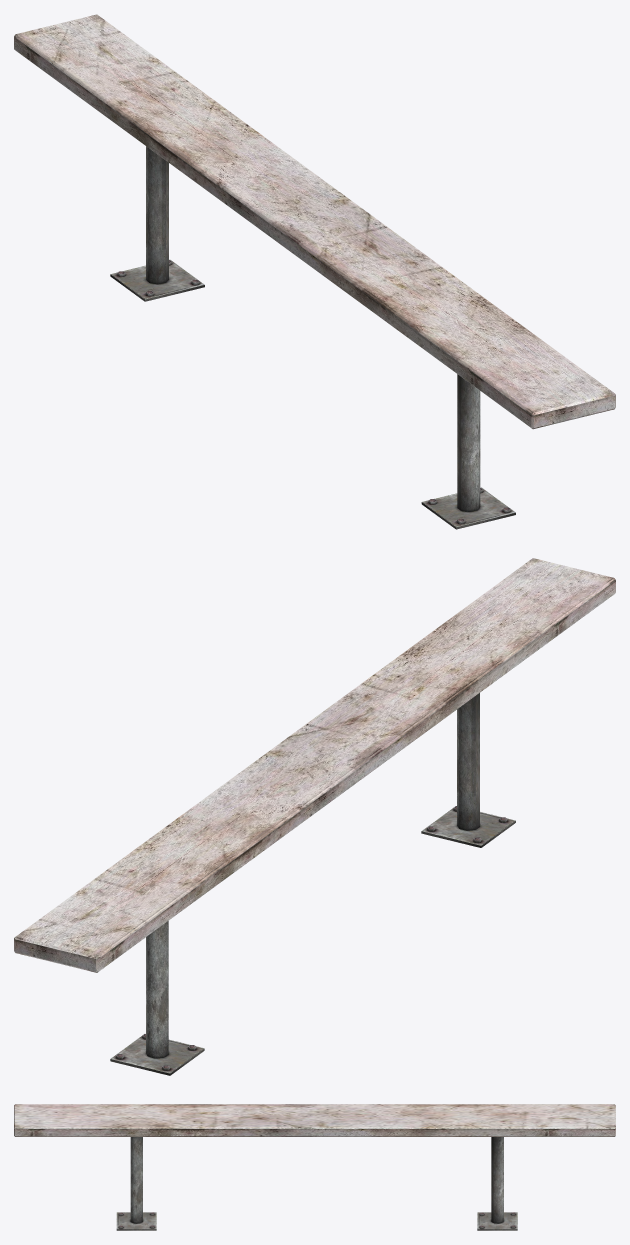
File: lockerbench.glb
3 views of the same model, one above another, from view 1: azimuth 30°, elevation 25°; view 2: azimuth 150°, elevation 25°; view 3: azimuth 270°, elevation 25° (orthographic). The views are drawn at different scales.
Parts seen in each view (by area): view 1: 0_LockerBench; view 2: 0_LockerBench; view 3: 0_LockerBench.
Part boxes in pixels (<box>): 0_LockerBench: <box>14,14,615,529</box>; 0_LockerBench: <box>14,558,615,1075</box>; 0_LockerBench: <box>14,1104,615,1230</box>.
Bounding box in the file's own units: 0.2873 × 0.5943 × 3.05.
Materials: 1 (1 with a texture image).
